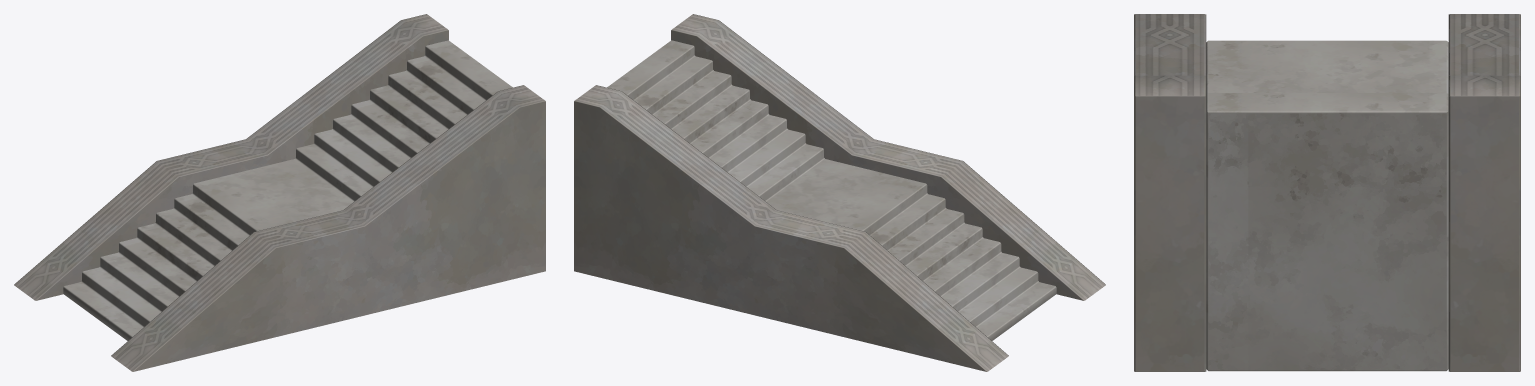
Rendered from SM_Stairs_Big.fbx.
The picture shows the model from 3 angles, left to right: view 1: azimuth 30°, elevation 25°; view 2: azimuth 150°, elevation 25°; view 3: azimuth 270°, elevation 25°; orthographic projection. The views are drawn at different scales.
Parts seen in each view (by area): view 1: SM_Stairs_Big_LOD0; view 2: SM_Stairs_Big_LOD0; view 3: SM_Stairs_Big_LOD0.
Part boxes in pixels (x1,y1,x2,y2): SM_Stairs_Big_LOD0: (14, 14, 545, 371); SM_Stairs_Big_LOD0: (574, 14, 1105, 371); SM_Stairs_Big_LOD0: (1134, 14, 1520, 371).
Bounding box in the file's own units: 800 × 400 × 315.
Materials: 2 (2 with a texture image).
